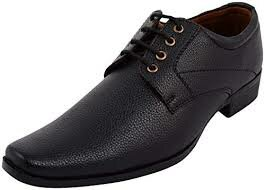Formal: (1, 1, 265, 189)
